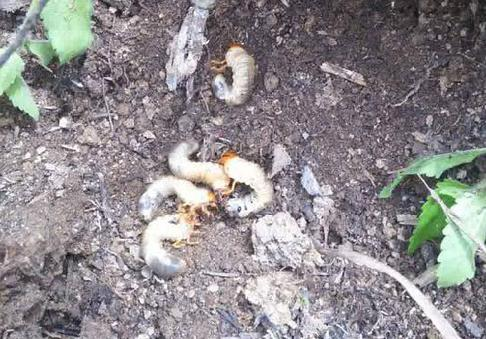grub: (139, 136, 276, 276)
